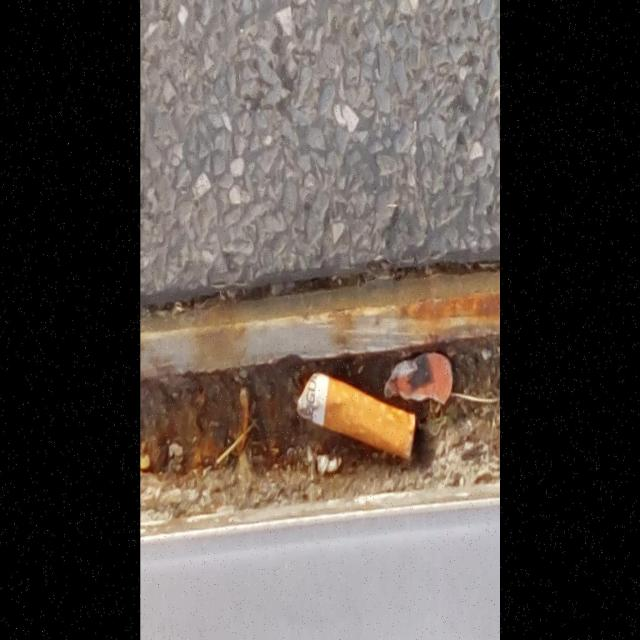other waste: (295, 372, 417, 464)
